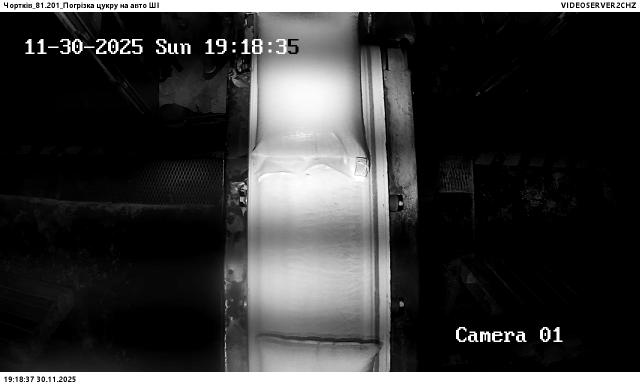bag: (254, 12, 371, 181), (258, 338, 380, 372)
